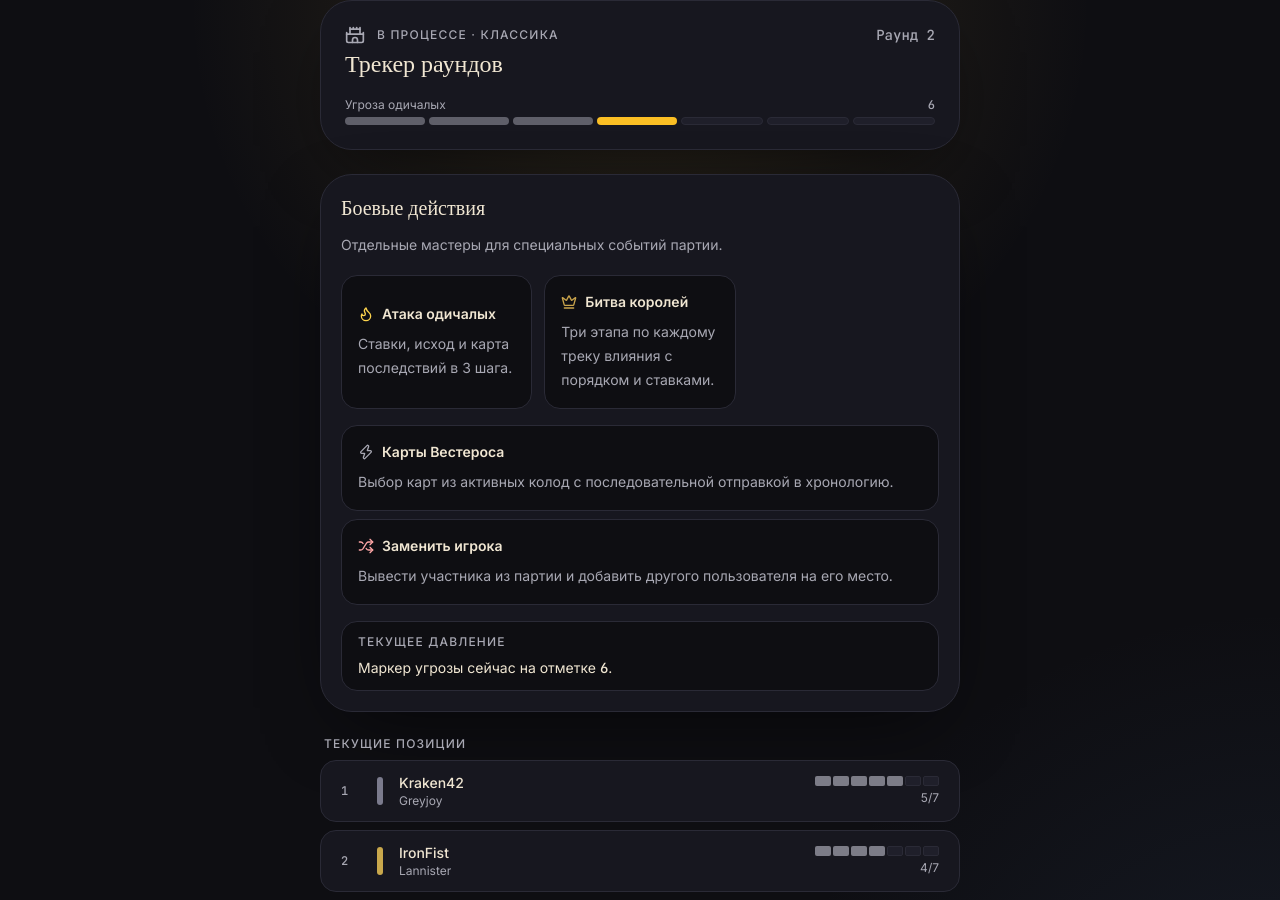
Test: round tracker page › opens replace participant modal and submits correct payload
The image size is (1280, 900).
Expected: the text "Заменить игрока" is shown, [382, 536, 502, 556]
Click the button with aria-label "open-replace-participant" at (442, 546), box [341, 519, 939, 605]
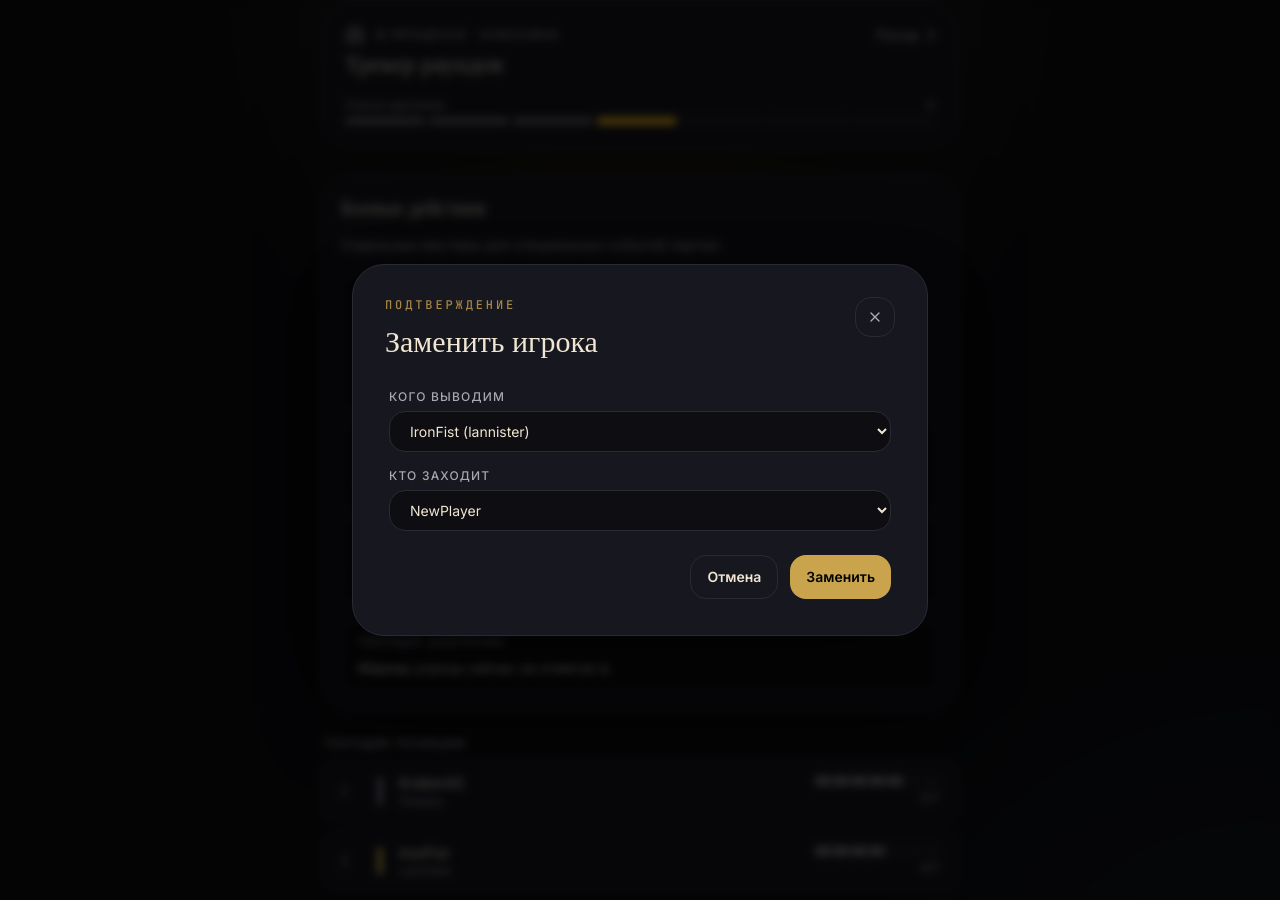
Expected: the text "Кого выводим" is shown, [389, 389, 505, 404]
Expected: the text "Кто заходит" is shown, [389, 468, 490, 483]
Click the button "Заменить" at (841, 577), box [790, 555, 891, 599]
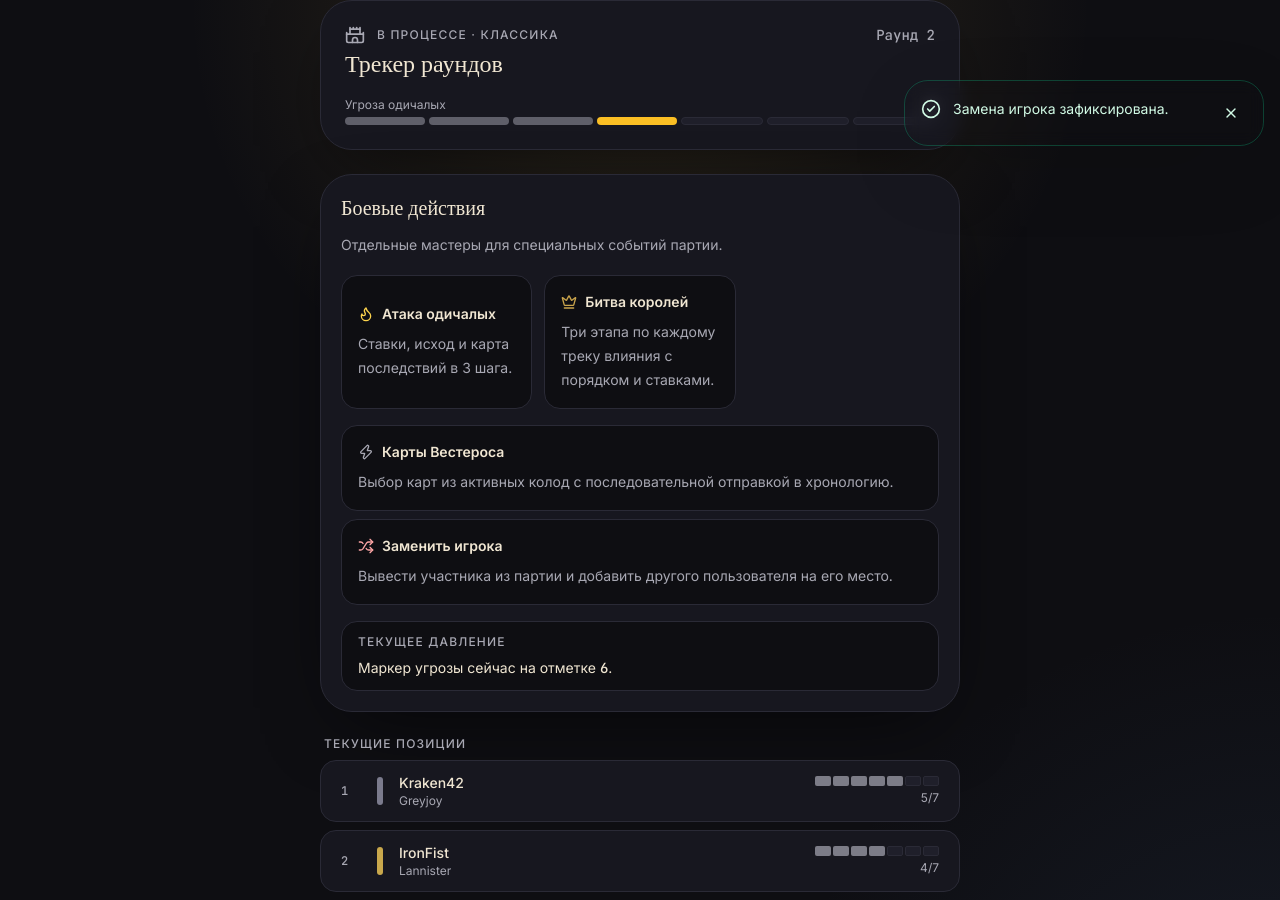
Expected: the dialog is gone
